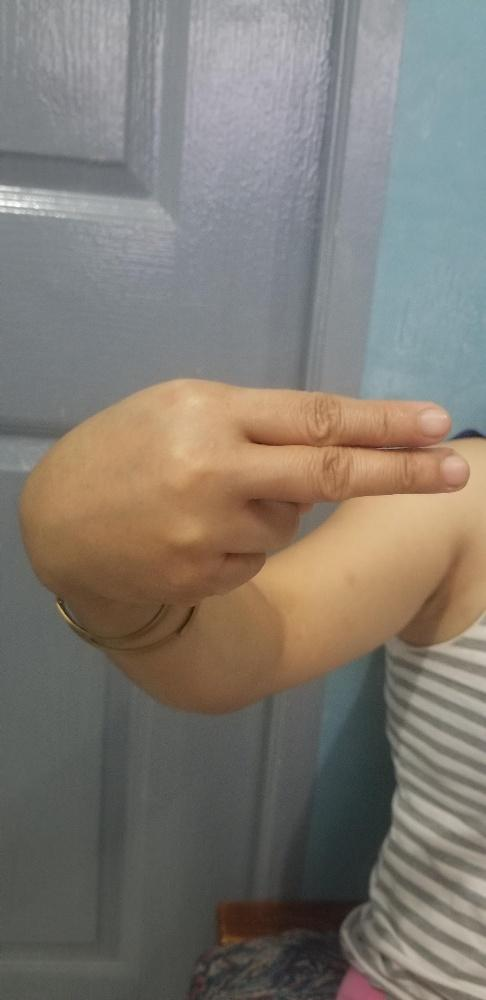h: (16, 376, 467, 610)
